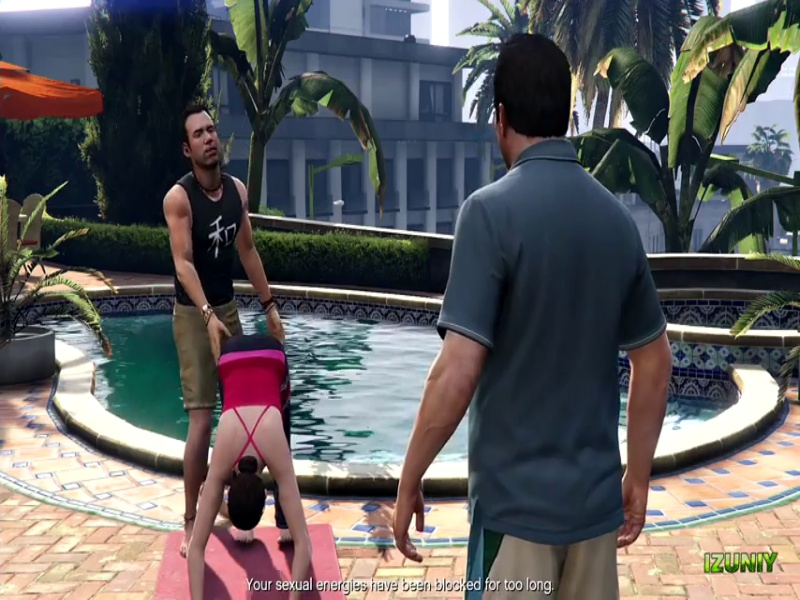human: (379, 21, 667, 598)
